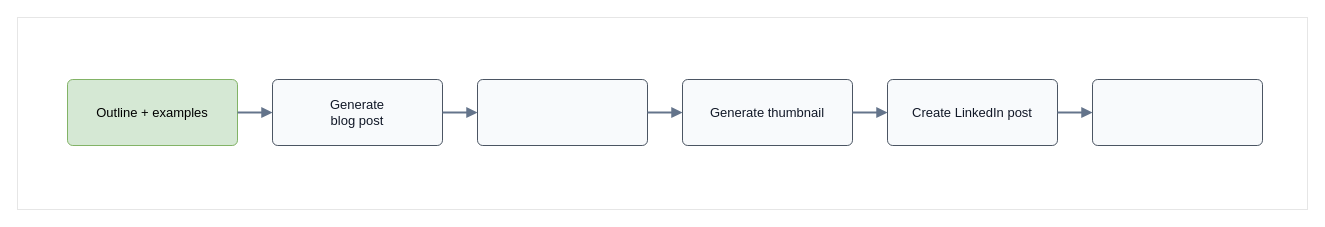
This 1325x227 diagram has some shape labels left out. The shapes that lost their labels are listed below. From the top down, each one's centre as x and y in pixels, then its label:
At [562,112]: "Evaluate and improve draft".
At [1177,112]: "Save publishing assets".
